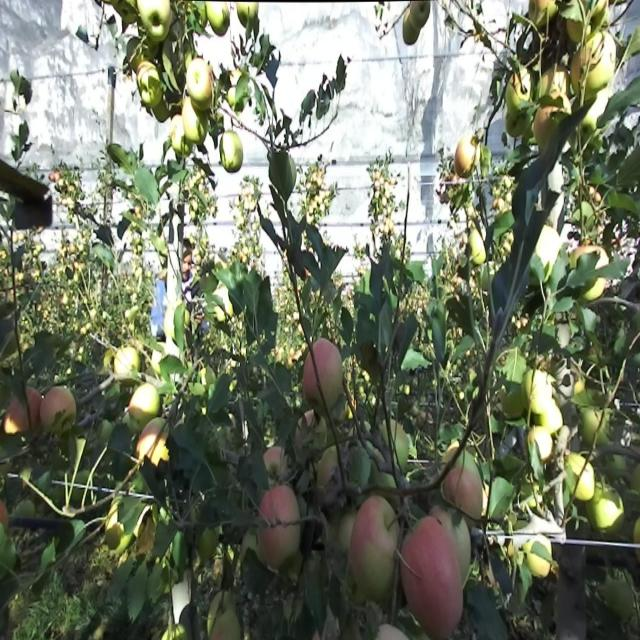apple: (398, 511, 465, 638), (348, 504, 400, 610), (260, 483, 302, 574), (572, 28, 616, 100), (304, 340, 345, 407), (444, 461, 488, 523), (528, 369, 564, 439), (312, 340, 345, 404), (572, 248, 608, 304), (260, 483, 300, 532), (260, 525, 300, 574), (44, 390, 77, 436), (592, 490, 625, 535), (568, 454, 597, 505), (188, 56, 215, 110), (128, 383, 161, 427), (140, 6, 174, 48), (528, 369, 552, 427), (136, 426, 168, 468), (532, 397, 564, 439), (528, 420, 556, 466), (536, 227, 559, 283), (184, 99, 210, 148), (300, 348, 322, 404), (580, 404, 606, 448), (140, 63, 163, 108), (528, 540, 553, 581), (4, 397, 30, 436), (508, 70, 531, 114), (220, 134, 244, 176), (536, 106, 558, 151), (116, 348, 141, 386), (164, 305, 190, 341), (316, 447, 339, 487), (568, 6, 590, 46), (172, 120, 195, 158), (456, 141, 479, 178), (264, 447, 287, 482), (104, 511, 124, 551), (208, 6, 232, 39), (504, 106, 527, 140), (548, 70, 570, 105), (140, 84, 164, 112), (200, 532, 220, 562), (404, 13, 420, 50), (28, 390, 43, 428), (156, 92, 171, 124), (536, 0, 556, 23), (572, 369, 586, 398), (104, 348, 117, 370), (0, 497, 9, 526), (636, 518, 640, 548), (160, 269, 168, 283)
